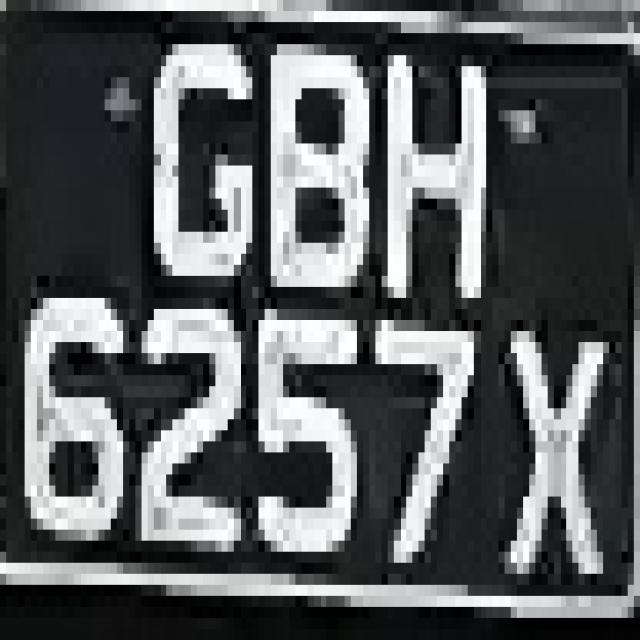2: (136, 243, 258, 563)
5: (264, 265, 376, 563)
6: (6, 265, 129, 585)
7: (369, 243, 480, 574)
B: (252, 0, 388, 309)
G: (123, 22, 277, 309)
H: (369, 11, 505, 364)
X: (492, 287, 610, 618)
